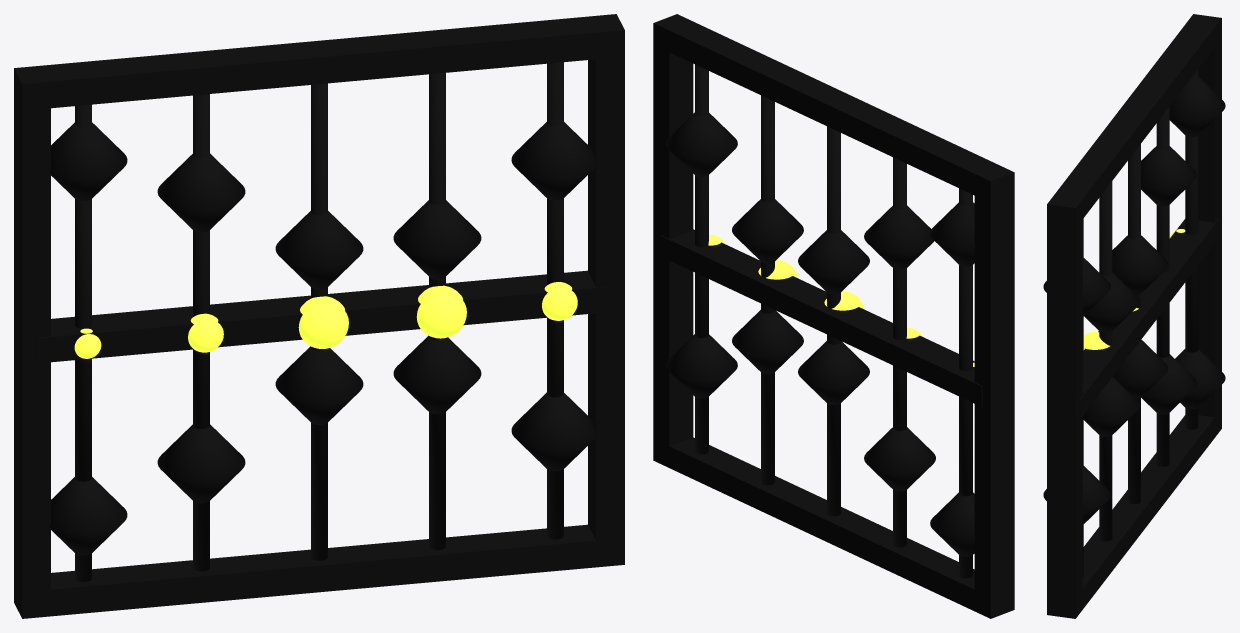
The picture shows the model from 3 angles, left to right: view 1: azimuth 30°, elevation 25°; view 2: azimuth 150°, elevation 25°; view 3: azimuth 270°, elevation 25°; orthographic projection. The views are drawn at different scales.
Visible parts, largest first — view 1: rail_top, rail_bot, post_l, post_r, beam, rod0, rod4, rod1, rod2, rod3, bead_top2, bead_top3 (+12 smaller); view 2: post_l, post_r, rail_top, rail_bot, beam, rod0, rod1, rod4, rod2, rod3, bead_top3, bead_top2 (+8 smaller); view 3: post_r, rail_top, rail_bot, post_l, beam, rod3, rod0, rod1, rod2, bead_top1, bead_top2, bead_top0 (+9 smaller).
Boxes of the visible parts, x1,y1,x2,y2 form: rail_top: (28,15,609,108); rail_bot: (36,524,610,616); post_l: (14,67,50,618); post_r: (588,14,624,567); beam: (36,270,610,363); rod0: (75,104,91,581); rod4: (547,62,563,539); rod1: (193,94,209,571); rod2: (311,83,327,560); rod3: (429,73,445,550); bead_top2: (275,211,363,289); bead_top3: (393,200,481,278); post_l: (974,166,1014,618); post_r: (653,14,693,467); rail_top: (661,18,1005,197); rail_bot: (661,437,974,611); beam: (660,229,982,406); rod0: (959,188,972,578); rod1: (893,157,906,547); rod4: (695,64,708,454); rod2: (827,126,840,516); rod3: (761,95,774,485); bead_top3: (732,199,803,263); bead_top2: (798,230,869,294); post_r: (1047,195,1082,618); rail_top: (1051,18,1218,223); rail_bot: (1079,413,1218,609); post_l: (1190,14,1221,435); beam: (1079,218,1219,418); rod3: (1099,181,1112,541); rod0: (1185,69,1198,429); rod1: (1156,107,1169,466); rod2: (1128,144,1140,504); bead_top1: (1141,146,1196,206); bead_top2: (1112,235,1168,295); bead_top0: (1169,77,1225,136).
Size of the model in its own units: 1.83 by 1.81 by 0.7273.
